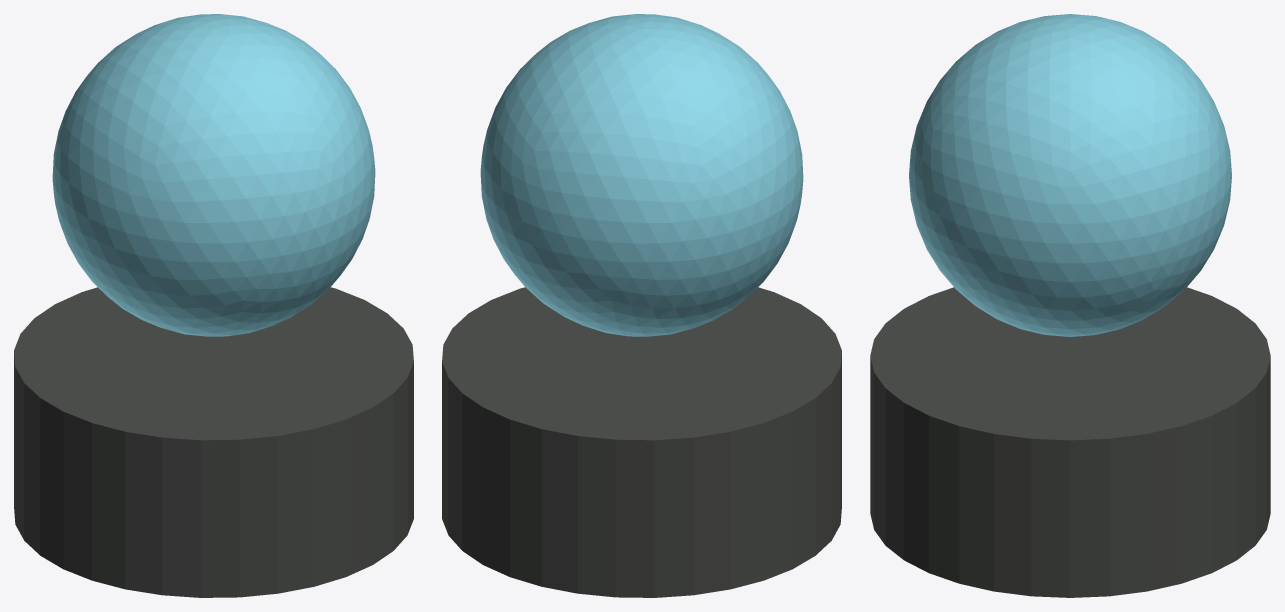
File: core.glb
3 views of the same model, side by side, from view 1: azimuth 30°, elevation 25°; view 2: azimuth 150°, elevation 25°; view 3: azimuth 270°, elevation 25° (orthographic).
Visible parts, largest first — view 1: Cylinder-col, Icosphere; view 2: Cylinder-col, Icosphere; view 3: Cylinder-col, Icosphere.
Part boxes in pixels (bbox=[...]): Cylinder-col: bbox=[14, 287, 413, 597]; Icosphere: bbox=[52, 14, 375, 336]; Cylinder-col: bbox=[442, 287, 841, 597]; Icosphere: bbox=[480, 14, 803, 336]; Cylinder-col: bbox=[870, 287, 1270, 597]; Icosphere: bbox=[909, 14, 1231, 336].
Size of the model in its own units: 10.43 by 13.92 by 10.43.
